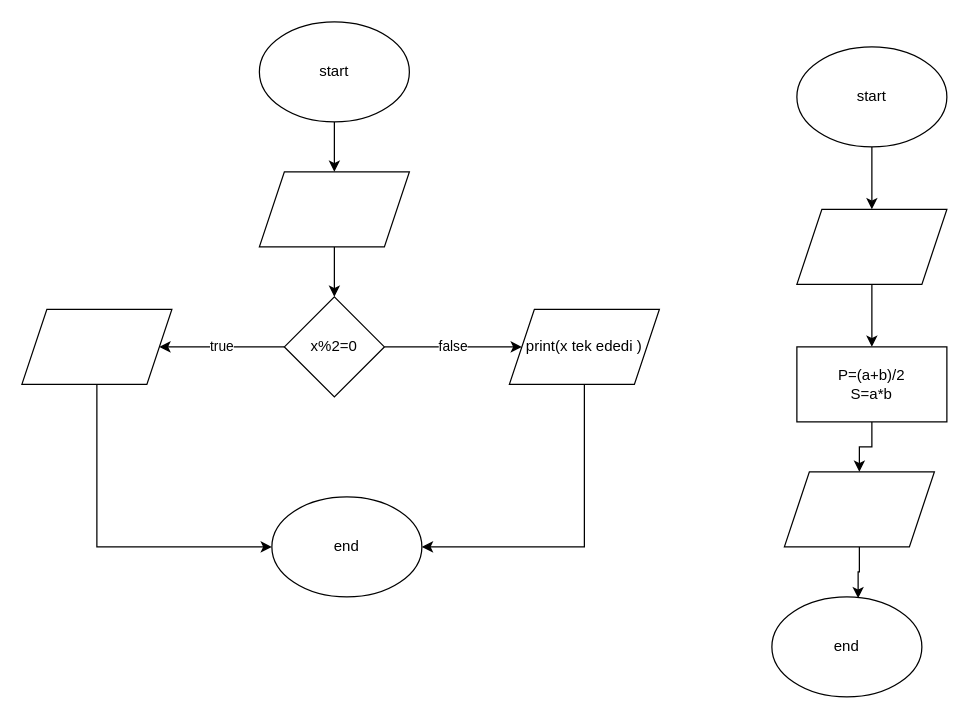
Some shapes in this 969 by 719 pixel diagram are drawn without their labels. The centre of each missing label's shape, as x and y in pixels:
"let a.b.P.S" belongs at pixel 871 246.
"let x" belongs at pixel 333 209.
"print (P,S)" belongs at pixel 858 509.
"print(x cut ededi )" belongs at pixel 96 346.
